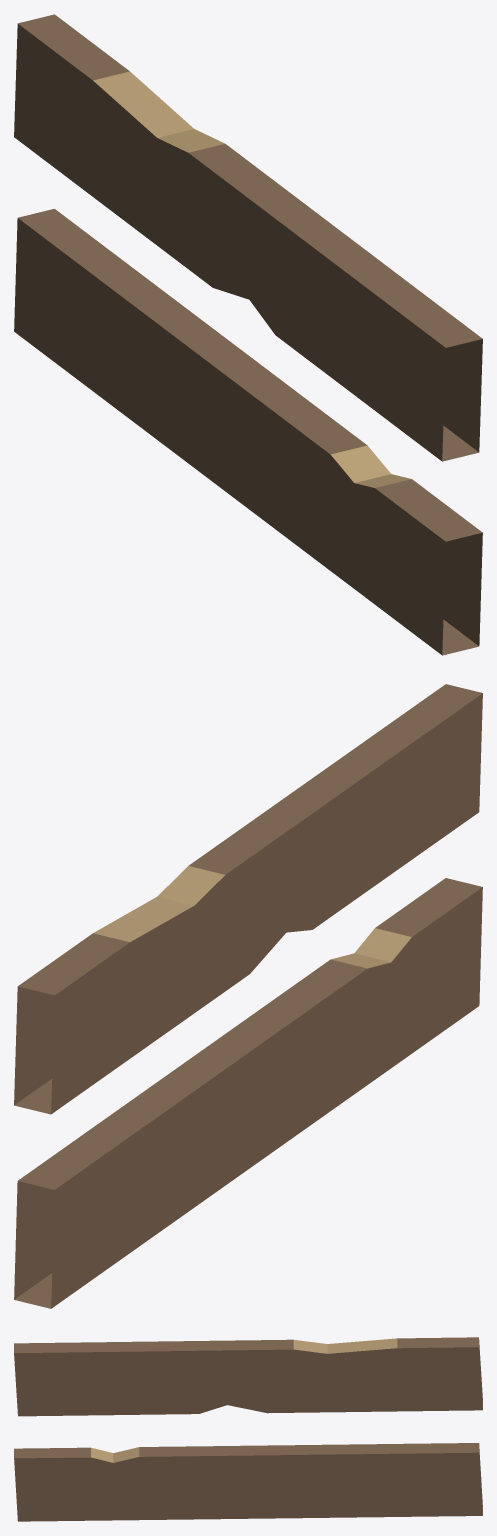
The model's file is Cave_Prop_Support_Wall_Boards_2.obj.
The picture shows the model from 3 angles, top to bottom: view 1: azimuth 30°, elevation 25°; view 2: azimuth 150°, elevation 25°; view 3: azimuth 270°, elevation 25°; orthographic projection. The views are drawn at different scales.
Parts seen in each view (by area): view 1: object2, object1; view 2: object2, object1; view 3: object2, object1.
Part boxes in pixels (bbox=[...]): object2: bbox=[14, 209, 482, 655]; object1: bbox=[14, 14, 482, 461]; object2: bbox=[14, 878, 482, 1308]; object1: bbox=[14, 684, 482, 1114]; object2: bbox=[14, 1443, 482, 1521]; object1: bbox=[14, 1337, 482, 1416].
Size of the model in its own units: 0.1 by 0.8277 by 2.02.
